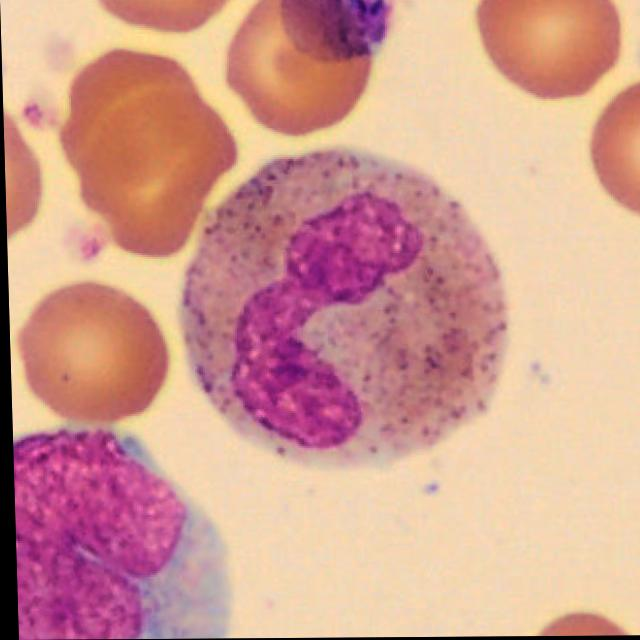Monocito: (10, 426, 231, 640)
Neutrofilo segmentado: (183, 148, 507, 469)
